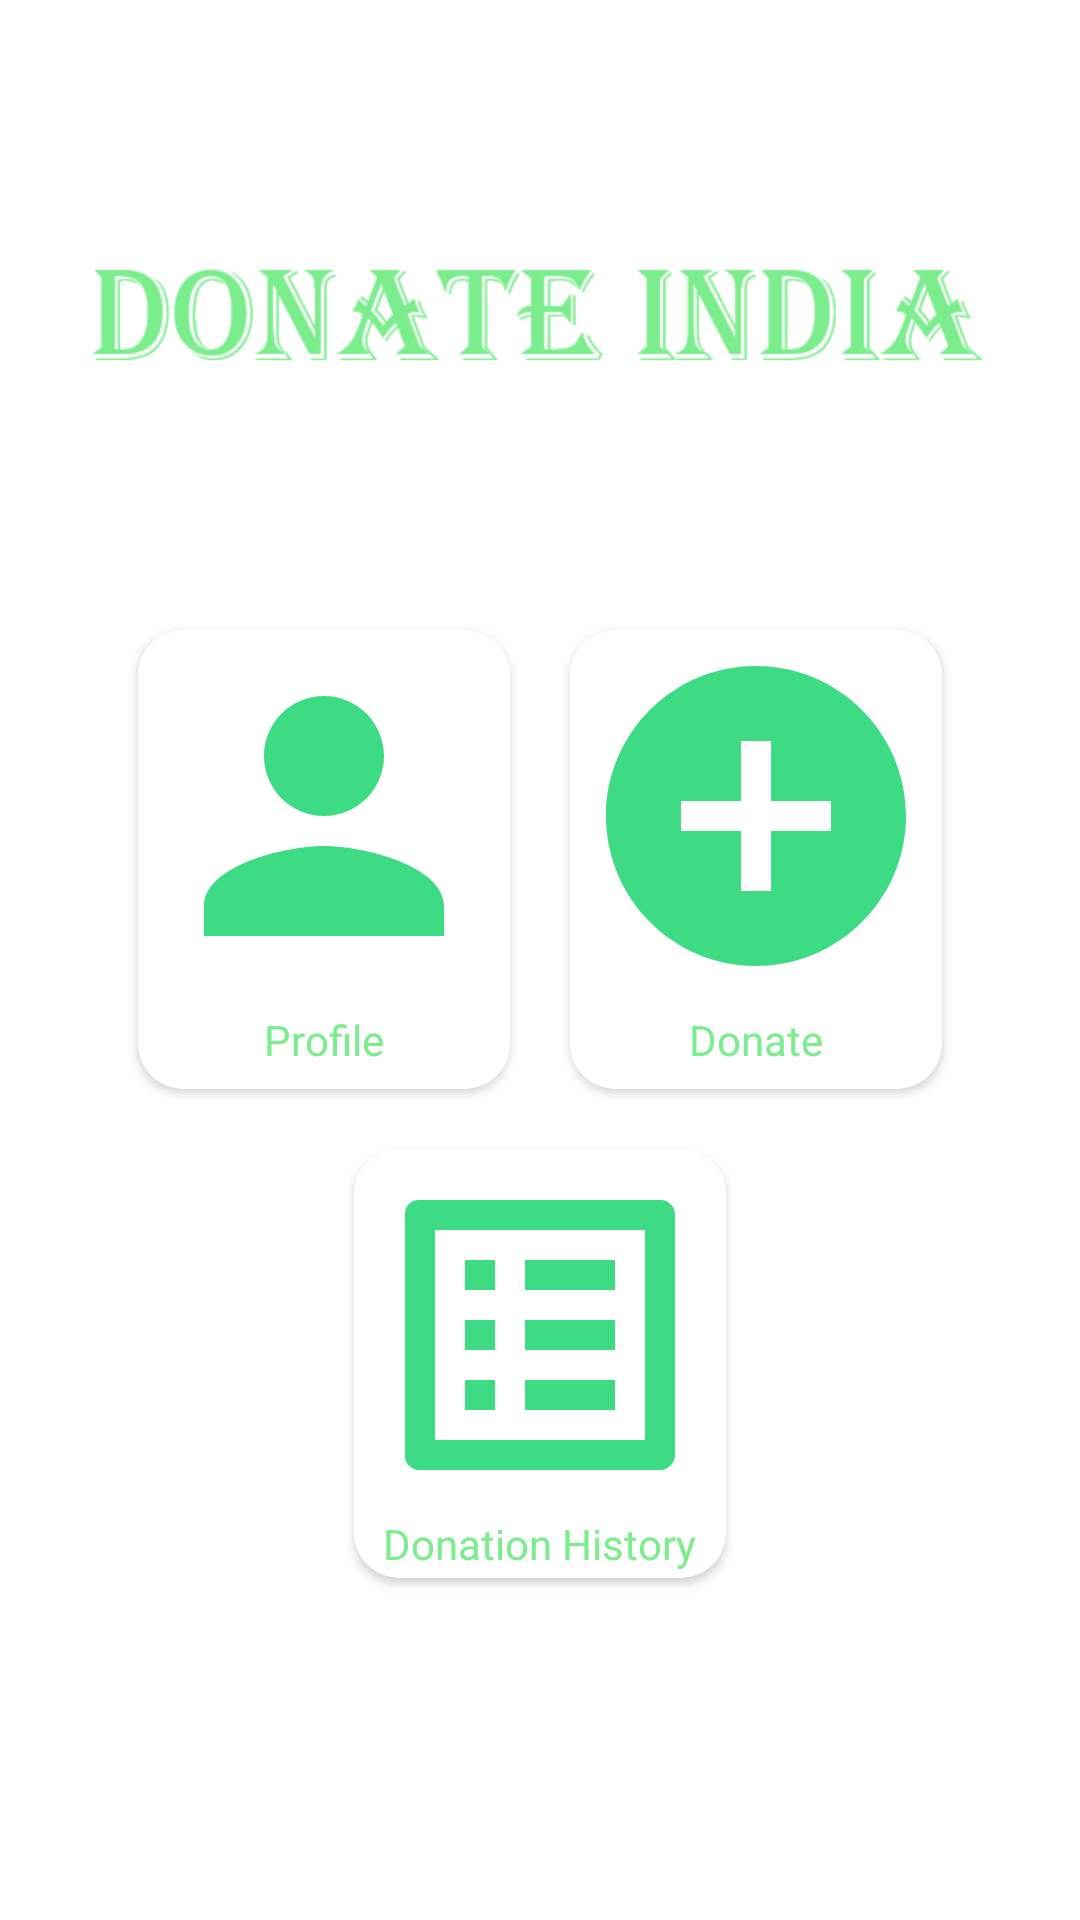

Icon bounding boxes for this 1080px×1920px phone screenshot, format (x1, y1, x2, y2):
add circle: (606, 666, 906, 966)
list: (405, 1200, 675, 1470)
person: (204, 696, 444, 936)
